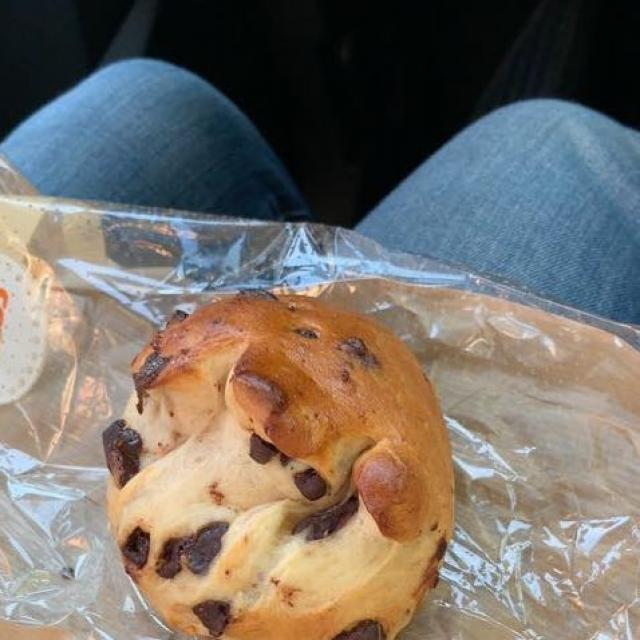bread: (113, 295, 452, 633)
